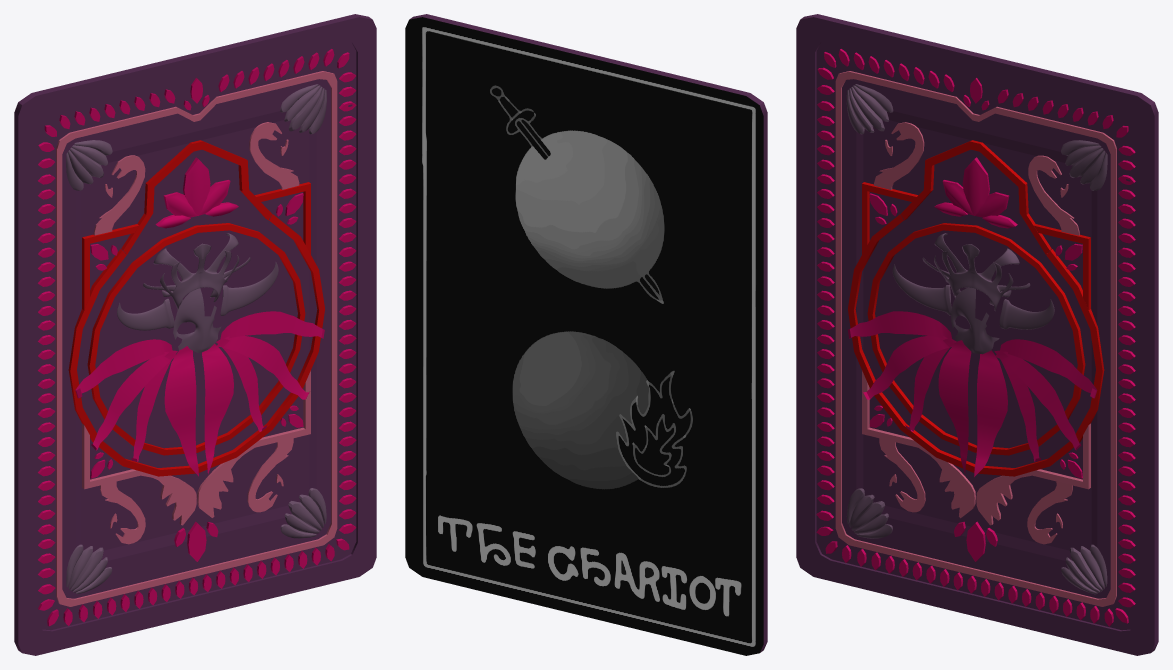
File: Mesh TheChariot.fbx
3 renders of one model, left to right at view 1: azimuth 30°, elevation 25°; view 2: azimuth 150°, elevation 25°; view 3: azimuth 330°, elevation 25°, orthographic.
Visible parts, largest first — view 1: Death4; view 2: Death4; view 3: Death4.
Part boxes in pixels (box(x1,y1,x2,y2)): Death4: box(14, 14, 376, 655); Death4: box(405, 14, 767, 655); Death4: box(796, 14, 1158, 655).
Bounding box in the file's own units: 321 × 479 × 15.55.
